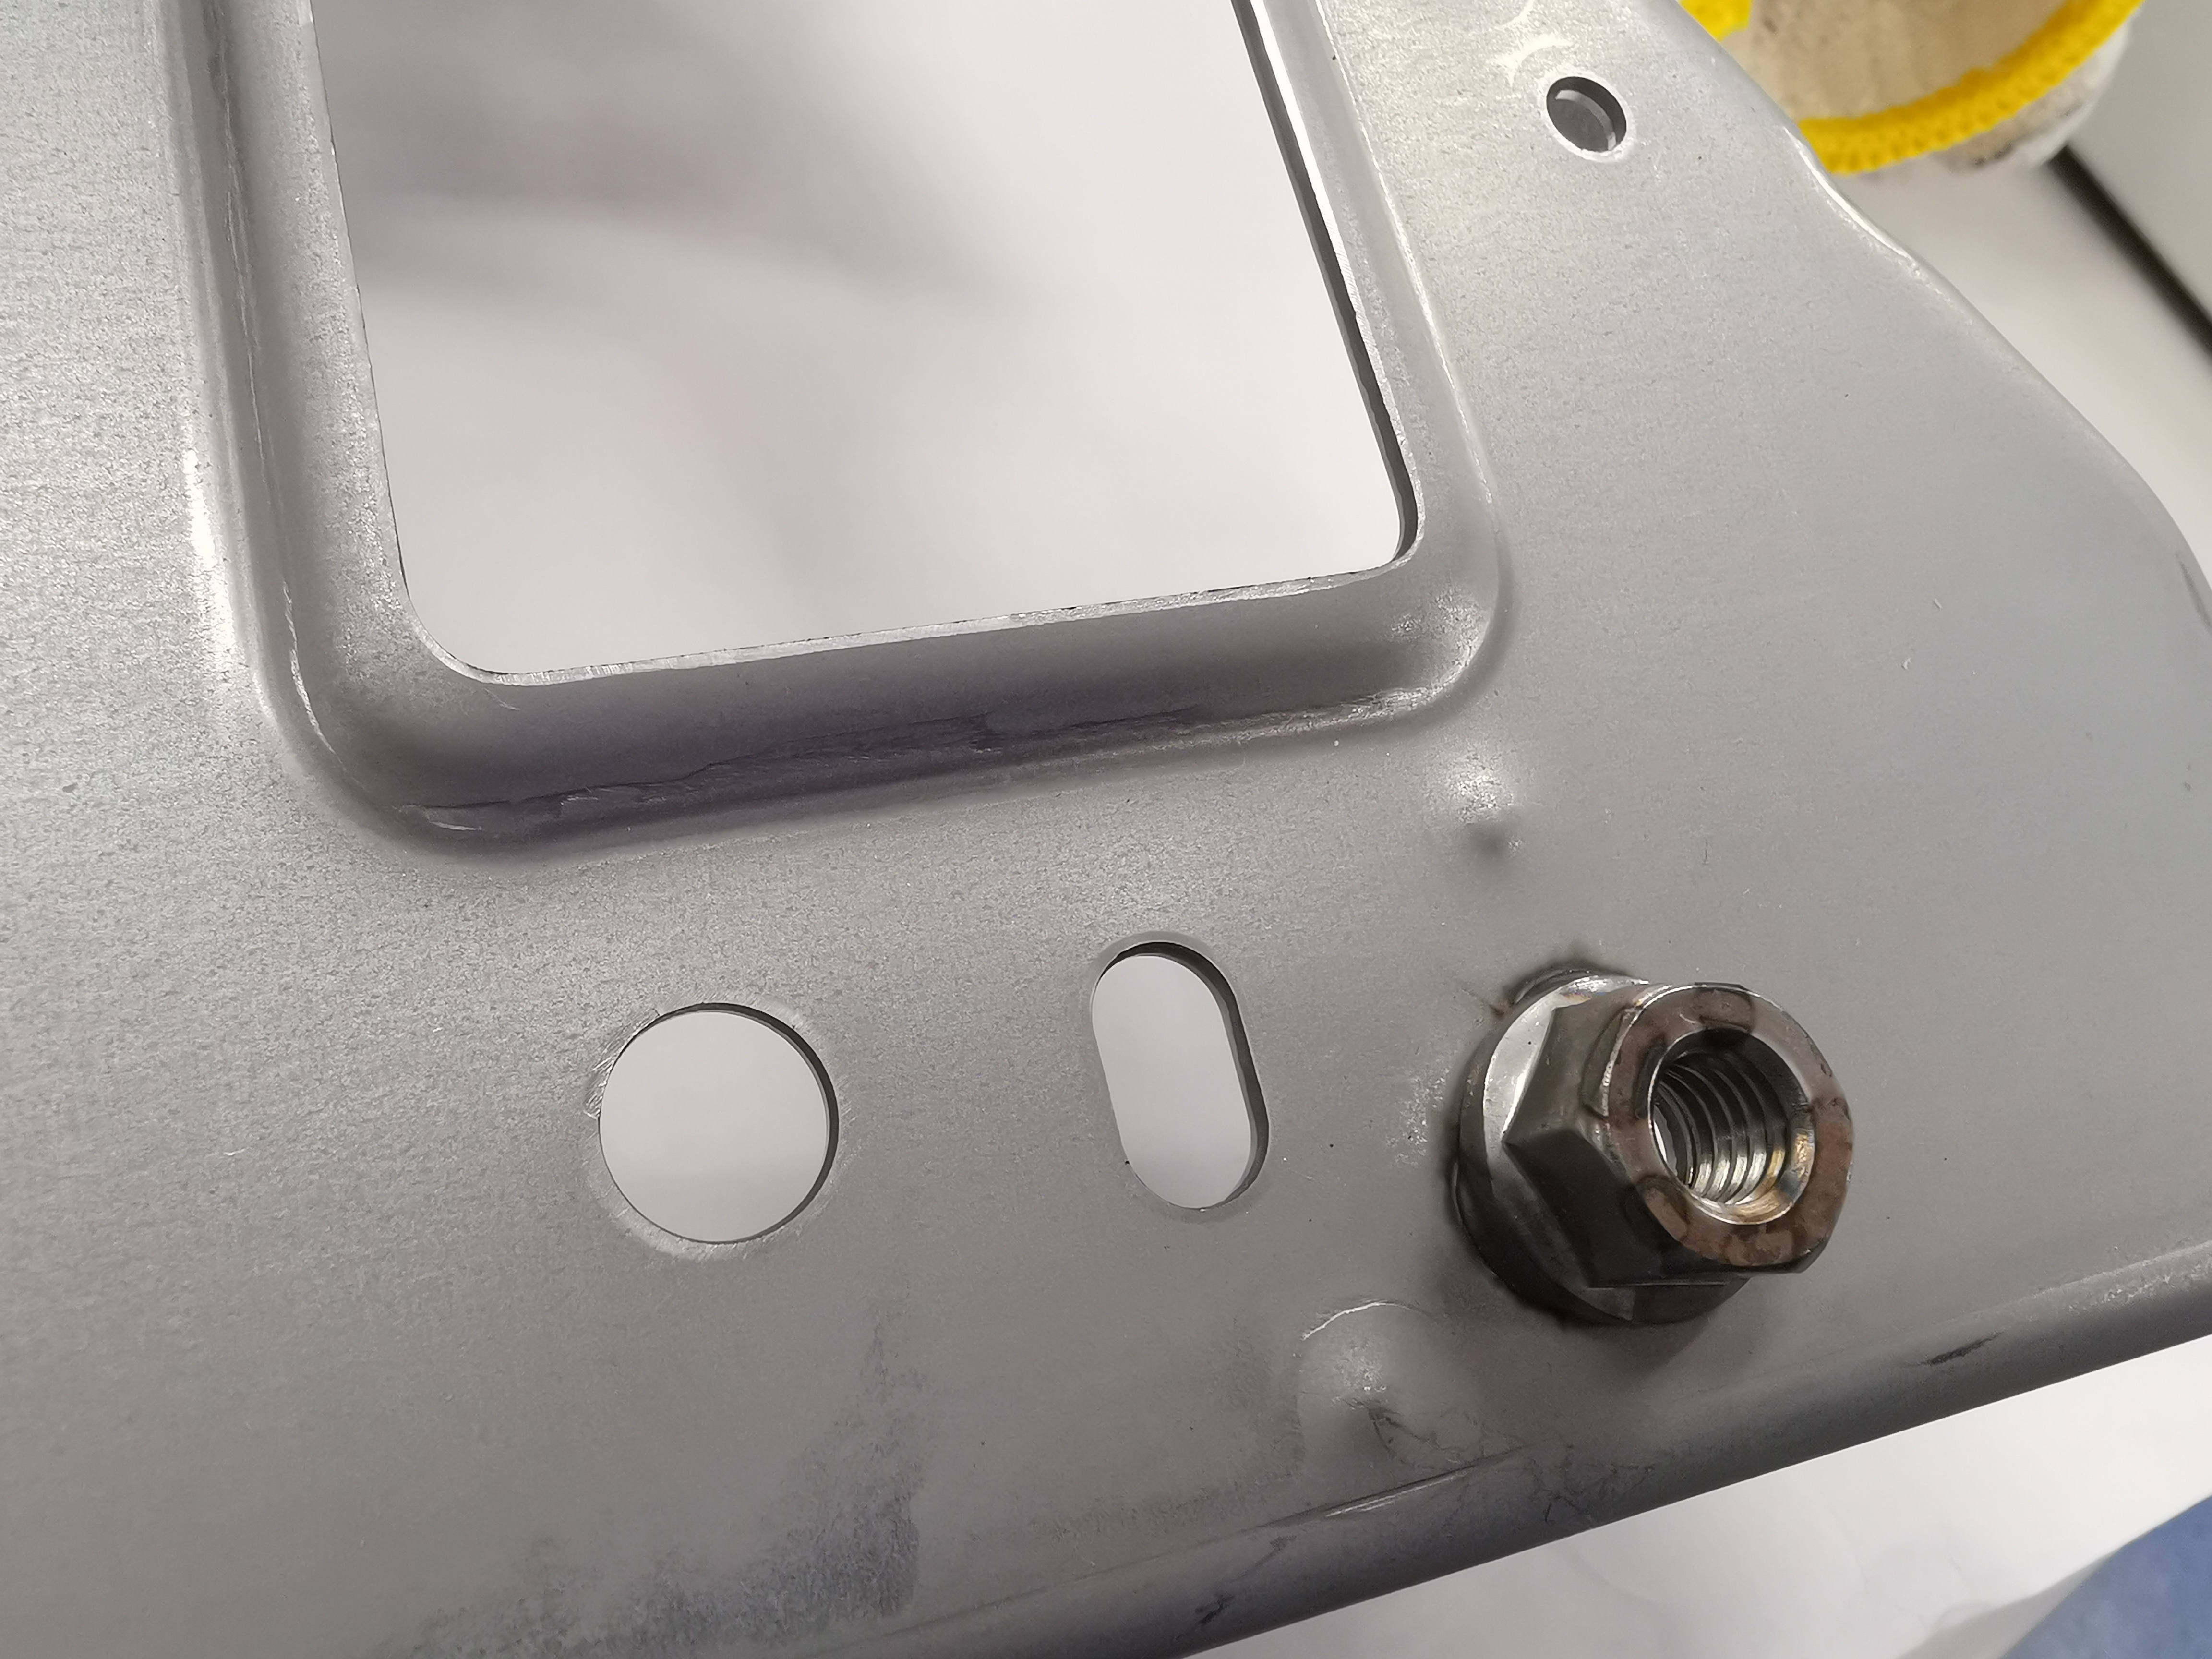dog: (1435, 943, 1864, 1333)
